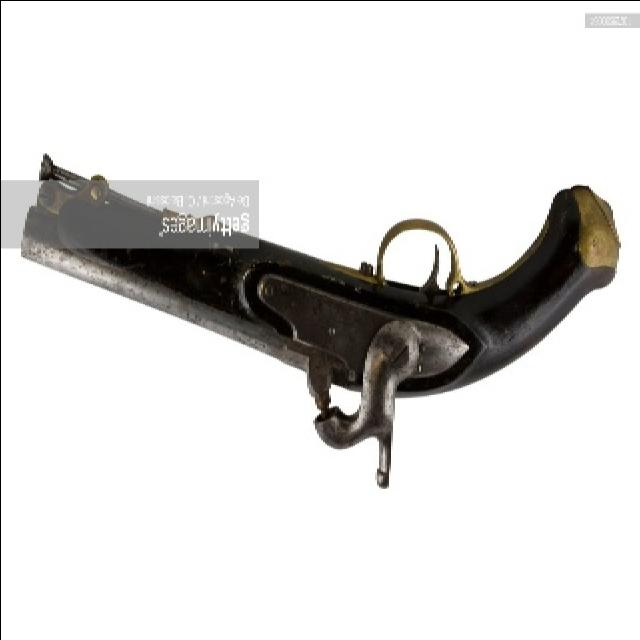handgun: (21, 128, 625, 497)
